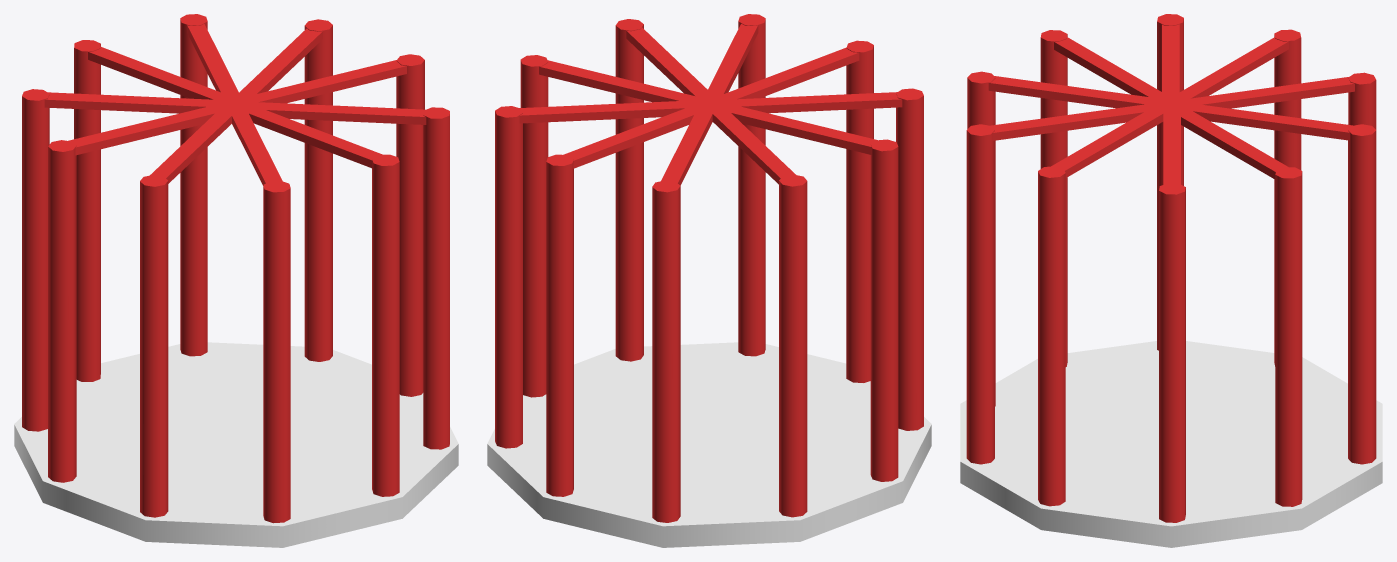
File: Cage.fbx
3 views of the same model, side by side, from view 1: azimuth 30°, elevation 25°; view 2: azimuth 150°, elevation 25°; view 3: azimuth 270°, elevation 25° (orthographic).
Visible parts, largest first — view 1: Cylinder002, Base, Box003, Box008, Box004, Box009, Box002, Box007, Box001, Box010, Box005, Box006; view 2: Cylinder002, Base, Box005, Box004, Box010, Box009, Box001, Box006, Box003, Box008, Box002, Box007; view 3: Cylinder002, Base, Box006, Box002, Box007, Box001, Box003, Box005, Box010, Box008, Box004, Box009.
Boxes of the visible parts, x1,y1,x2,y2 form: Cylinder002: [22, 14, 449, 523]; Base: [14, 342, 458, 547]; Box003: [221, 100, 426, 124]; Box008: [44, 92, 221, 113]; Box004: [220, 60, 406, 109]; Box009: [68, 104, 228, 155]; Box002: [219, 97, 383, 168]; Box007: [88, 47, 251, 108]; Box001: [223, 96, 282, 185]; Box010: [150, 107, 237, 183]; Box005: [236, 28, 322, 97]; Box006: [187, 24, 240, 97]; Cylinder002: [495, 14, 923, 522]; Base: [487, 342, 931, 547]; Box005: [519, 99, 724, 123]; Box004: [539, 60, 725, 109]; Box010: [698, 92, 902, 113]; Box009: [702, 98, 877, 154]; Box001: [696, 47, 859, 111]; Box006: [563, 98, 725, 168]; Box003: [626, 27, 725, 108]; Box008: [699, 97, 795, 184]; Box002: [706, 23, 758, 110]; Box007: [661, 97, 713, 185]; Cylinder002: [966, 14, 1376, 522]; Base: [960, 341, 1382, 547]; Box006: [1155, 99, 1352, 140]; Box002: [990, 99, 1186, 140]; Box007: [1157, 76, 1354, 110]; Box001: [988, 76, 1184, 109]; Box003: [1051, 97, 1178, 177]; Box005: [1156, 101, 1288, 179]; Box010: [1054, 37, 1181, 110]; Box008: [1167, 37, 1288, 110]; Box004: [1163, 99, 1180, 184]; Box009: [1162, 24, 1179, 98].
Size of the model in its own units: 20.03 by 17.43 by 19.05.
